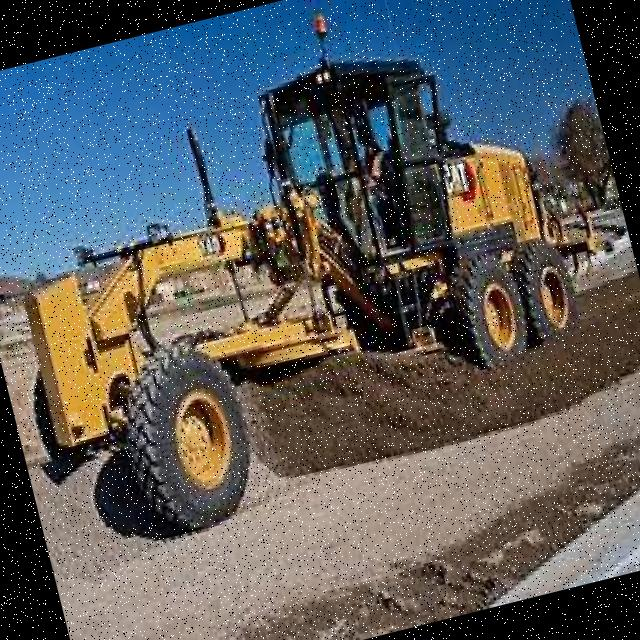Grader: (0, 0, 636, 567)
